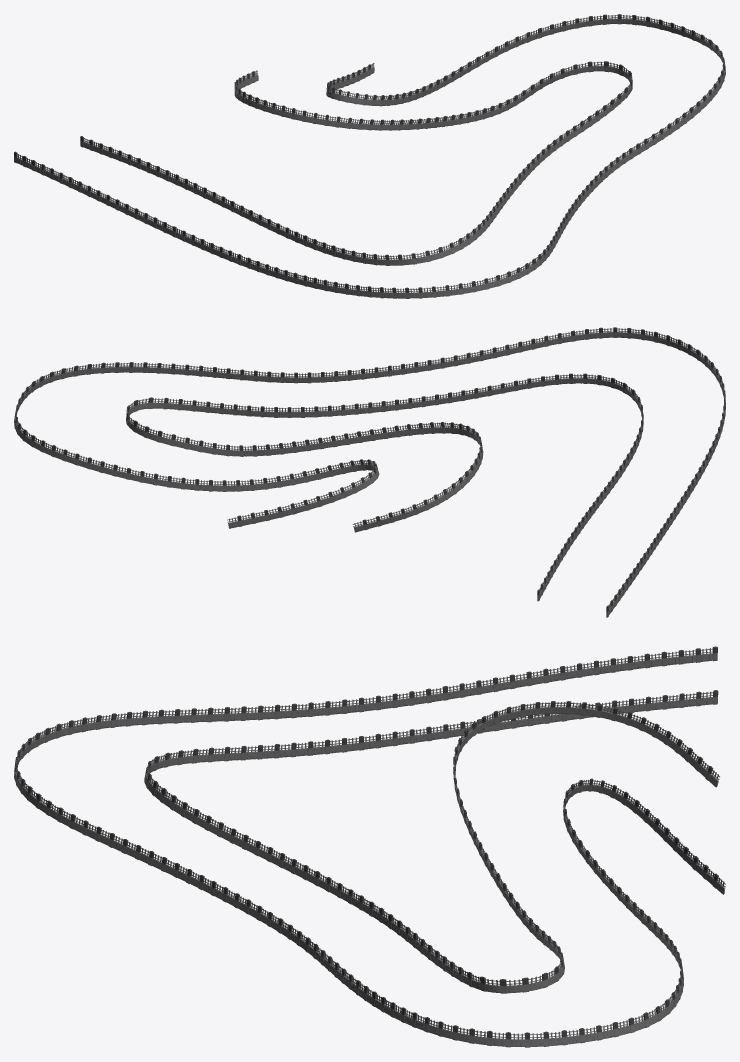
File: Track apply3.fbx
3 views of the same model, one above another, from view 1: azimuth 30°, elevation 25°; view 2: azimuth 150°, elevation 25°; view 3: azimuth 270°, elevation 25° (orthographic). The views are drawn at different scales.
Visible parts, largest first — view 1: Pagar low 2, Pagar low 2.001; view 2: Pagar low 2, Pagar low 2.001; view 3: Pagar low 2, Pagar low 2.001.
Part boxes in pixels (box(x1,y1,x2,y2)): Pagar low 2: box(14, 14, 725, 298); Pagar low 2.001: box(80, 61, 632, 265); Pagar low 2: box(14, 327, 725, 617); Pagar low 2.001: box(126, 373, 643, 601); Pagar low 2: box(14, 646, 725, 1047); Pagar low 2.001: box(144, 690, 719, 993).
Bounding box in the file's own units: 25502 × 2761 × 18997.
